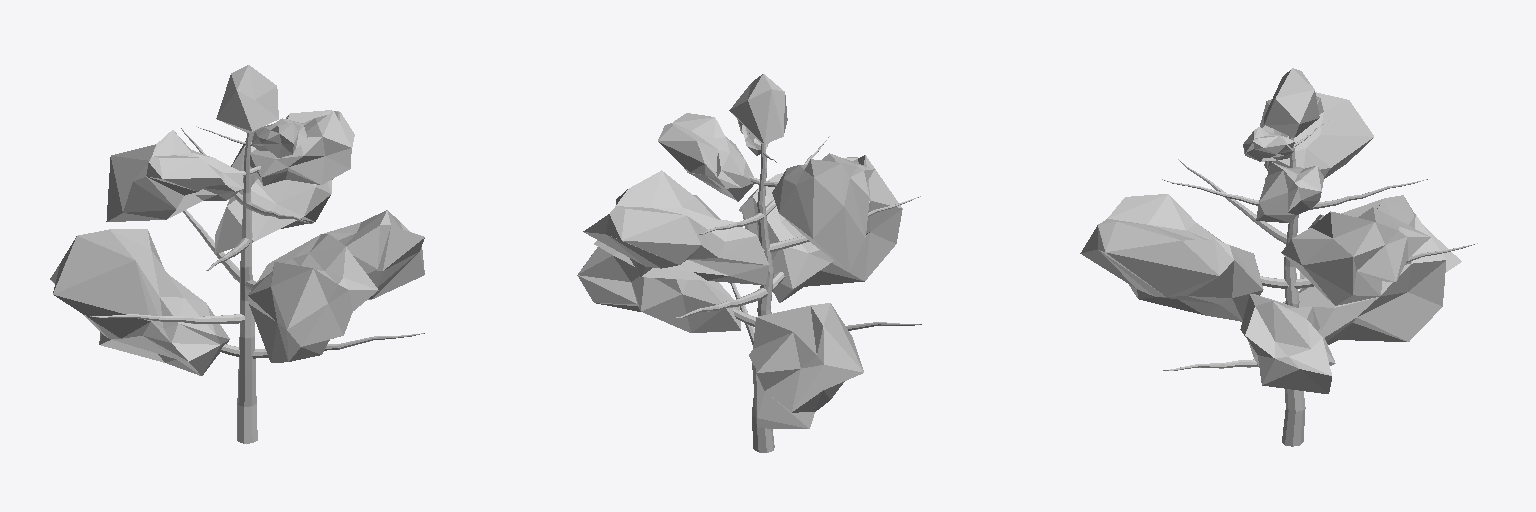
File: tree_patchy.obj
3 views of the same model, side by side, from view 1: azimuth 30°, elevation 25°; view 2: azimuth 150°, elevation 25°; view 3: azimuth 270°, elevation 25° (orthographic).
Visible parts, largest first — view 1: Icosphere, Cube_Cube.001; view 2: Icosphere, Cube_Cube.001; view 3: Icosphere, Cube_Cube.001.
Boxes of the visible parts, x1,y1,x2,y2 form: Icosphere: [50, 65, 424, 375]; Cube_Cube.001: [85, 126, 424, 443]; Icosphere: [577, 74, 902, 428]; Cube_Cube.001: [676, 136, 921, 452]; Icosphere: [1080, 68, 1461, 393]; Cube_Cube.001: [1162, 120, 1477, 446].
Bounding box in the file's own units: 9.88 × 10.65 × 10.28.